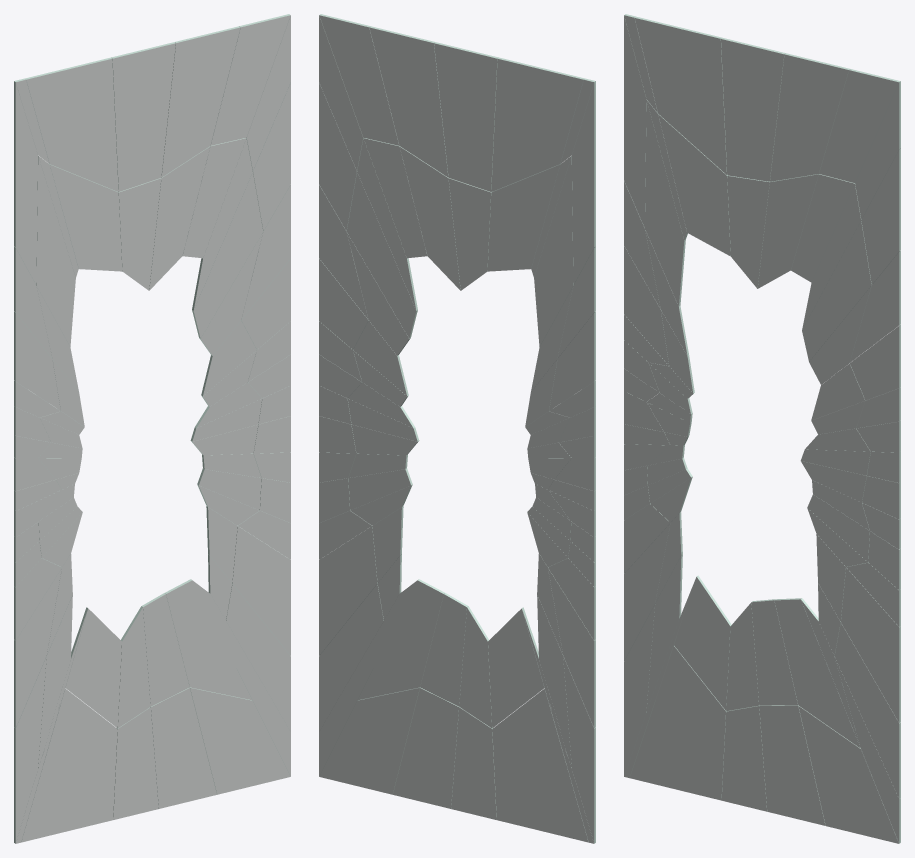
File: DoorGlass_Right_Broken.fbx
3 renders of one model, left to right at view 1: azimuth 30°, elevation 25°; view 2: azimuth 150°, elevation 25°; view 3: azimuth 330°, elevation 25°, orthographic.
Visible parts, largest first — view 1: DoorGlass_Right_Broken; view 2: DoorGlass_Right_Broken; view 3: DoorGlass_Right_Broken.
Part boxes in pixels (x1,y1,x2,y2): DoorGlass_Right_Broken: (14,14,290,843); DoorGlass_Right_Broken: (319,14,595,843); DoorGlass_Right_Broken: (624,14,900,843).
Size of the model in its own units: 77.47 by 205 by 0.8.
